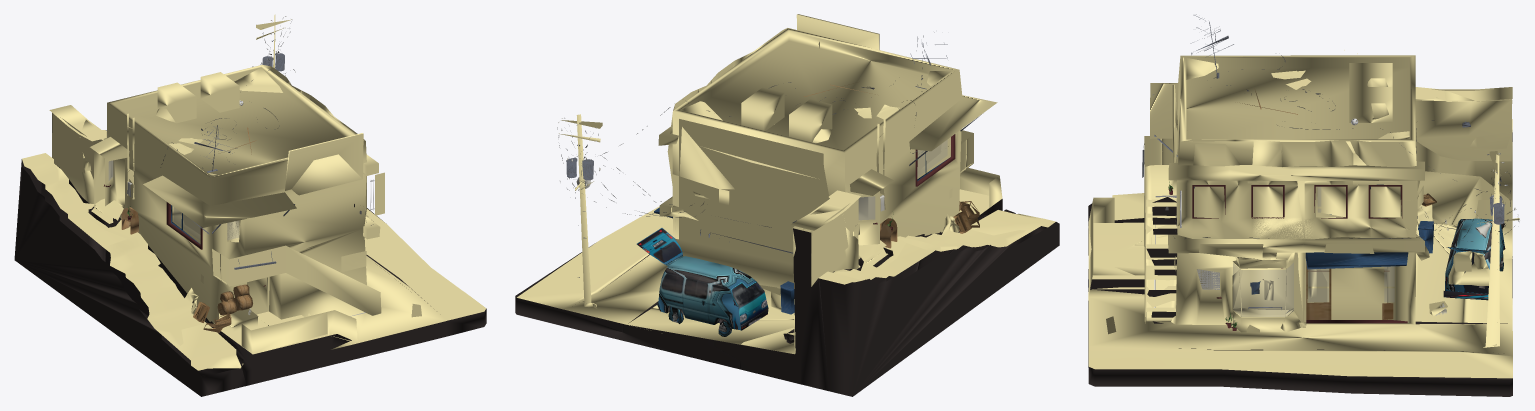
Rendered from automapping_market.glb.
3 views of the same model, side by side, from view 1: azimuth 30°, elevation 25°; view 2: azimuth 150°, elevation 25°; view 3: azimuth 270°, elevation 25° (orthographic). The views are drawn at different scales.
Parts seen in each view (by area): view 1: body; view 2: body; view 3: body.
Boxes of the visible parts, bbox=[...] form: body: bbox=[14, 14, 486, 396]; body: bbox=[515, 14, 1059, 396]; body: bbox=[1088, 14, 1519, 396].
Size of the model in its own units: 16.68 by 11.27 by 17.98.
Materials: 12 (4 with a texture image).
